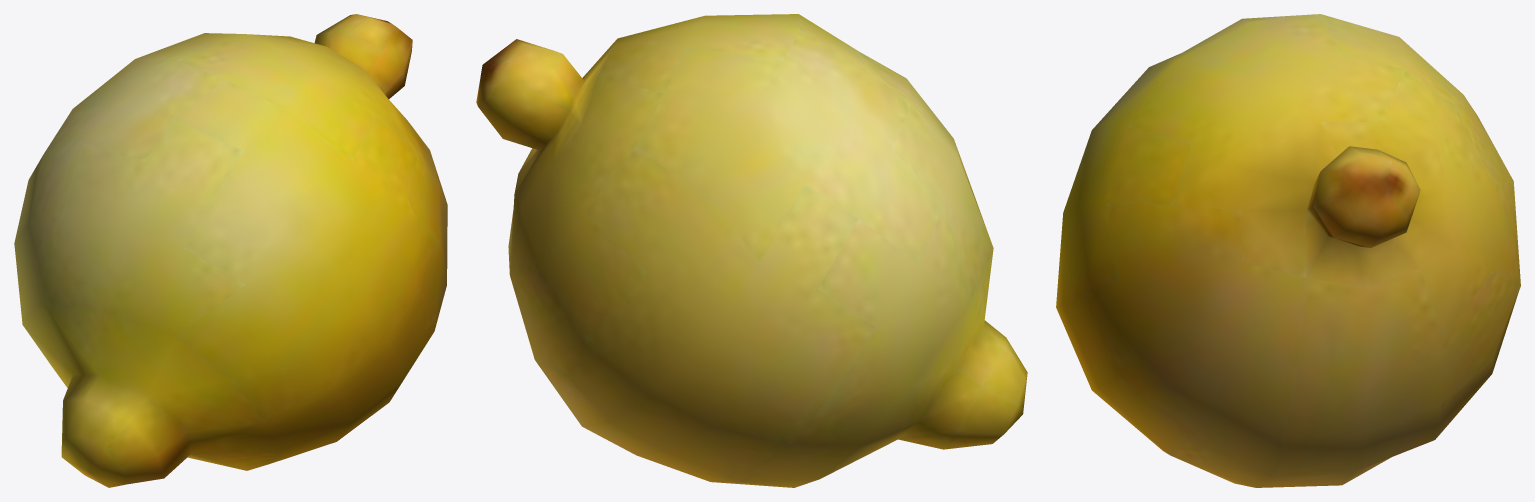
The model's file is lemon.glb.
3 renders of one model, left to right at view 1: azimuth 30°, elevation 25°; view 2: azimuth 150°, elevation 25°; view 3: azimuth 270°, elevation 25°, orthographic. The views are drawn at different scales.
Parts seen in each view (by area): view 1: Lemon; view 2: Lemon; view 3: Lemon.
Part boxes in pixels (left/top/right/bottom): Lemon: left=14, top=14, right=447, bottom=487; Lemon: left=476, top=14, right=1027, bottom=487; Lemon: left=1056, top=14, right=1520, bottom=487.
Size of the model in its own units: 1.59 by 1.42 by 1.4.
Materials: 1 (1 with a texture image).
